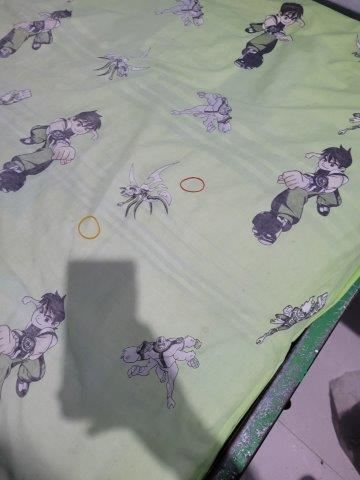karet: (76, 215, 101, 240), (178, 176, 208, 195)
